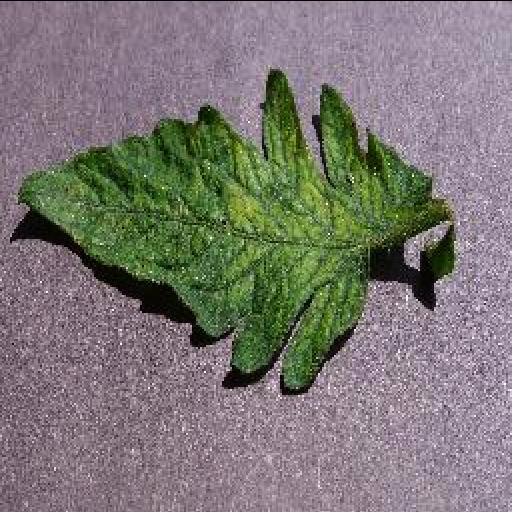disease_tomato: (13, 64, 435, 394)
